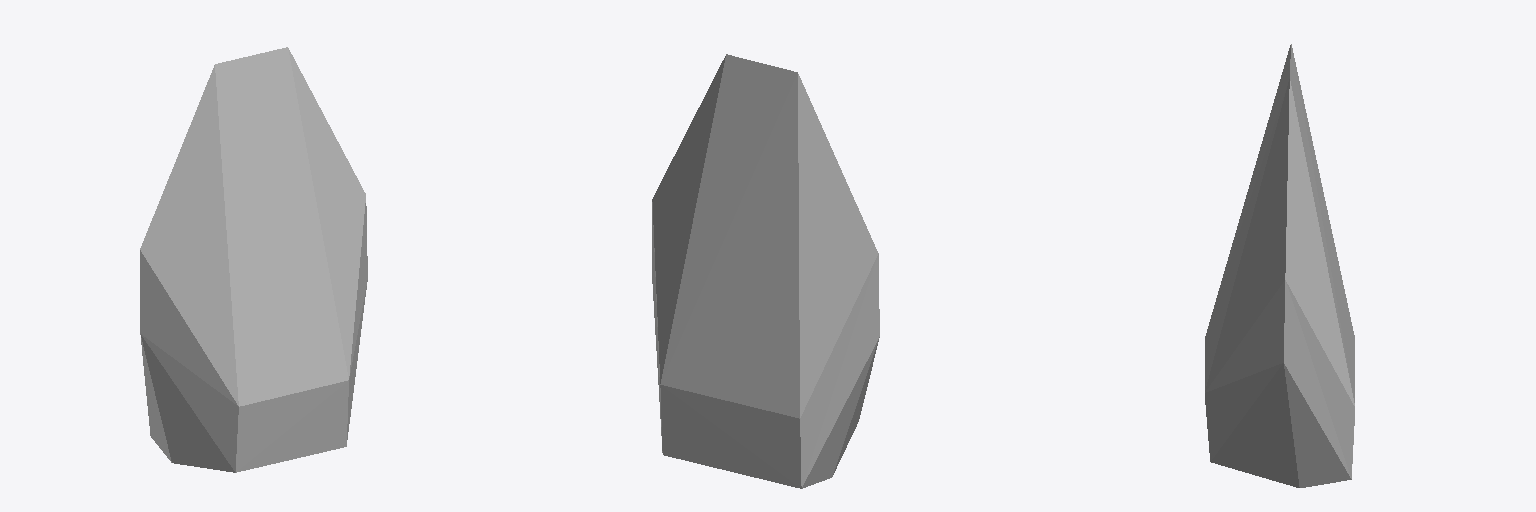
Rendered from convex.obj.
The picture shows the model from 3 angles: view 1: azimuth 30°, elevation 25°; view 2: azimuth 150°, elevation 25°; view 3: azimuth 270°, elevation 25°; orthographic projection.
Visible parts, largest first — view 1: awing_convex_awing.001; view 2: awing_convex_awing.001; view 3: awing_convex_awing.001.
Part boxes in pixels (bbox=[...]): awing_convex_awing.001: bbox=[140, 47, 367, 472]; awing_convex_awing.001: bbox=[652, 54, 879, 488]; awing_convex_awing.001: bbox=[1205, 44, 1354, 487].
Size of the model in its own units: 0.2957 by 0.4877 by 0.1698.